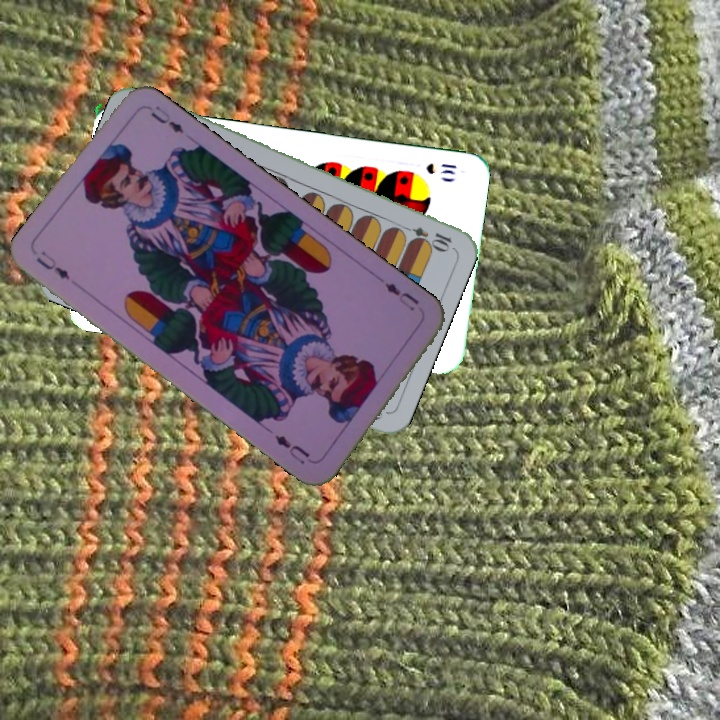E10: (396, 221, 454, 252)
EU: (380, 278, 422, 314), (32, 247, 73, 283)
S10: (422, 159, 460, 177)
